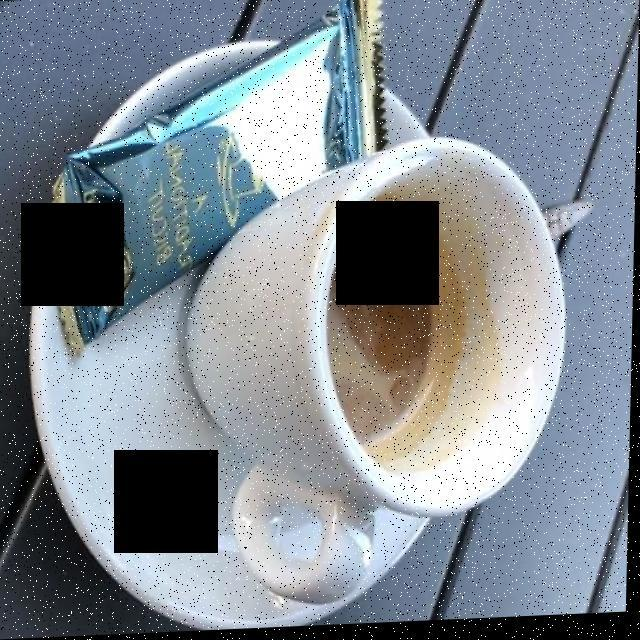drink: (334, 207, 450, 455)
